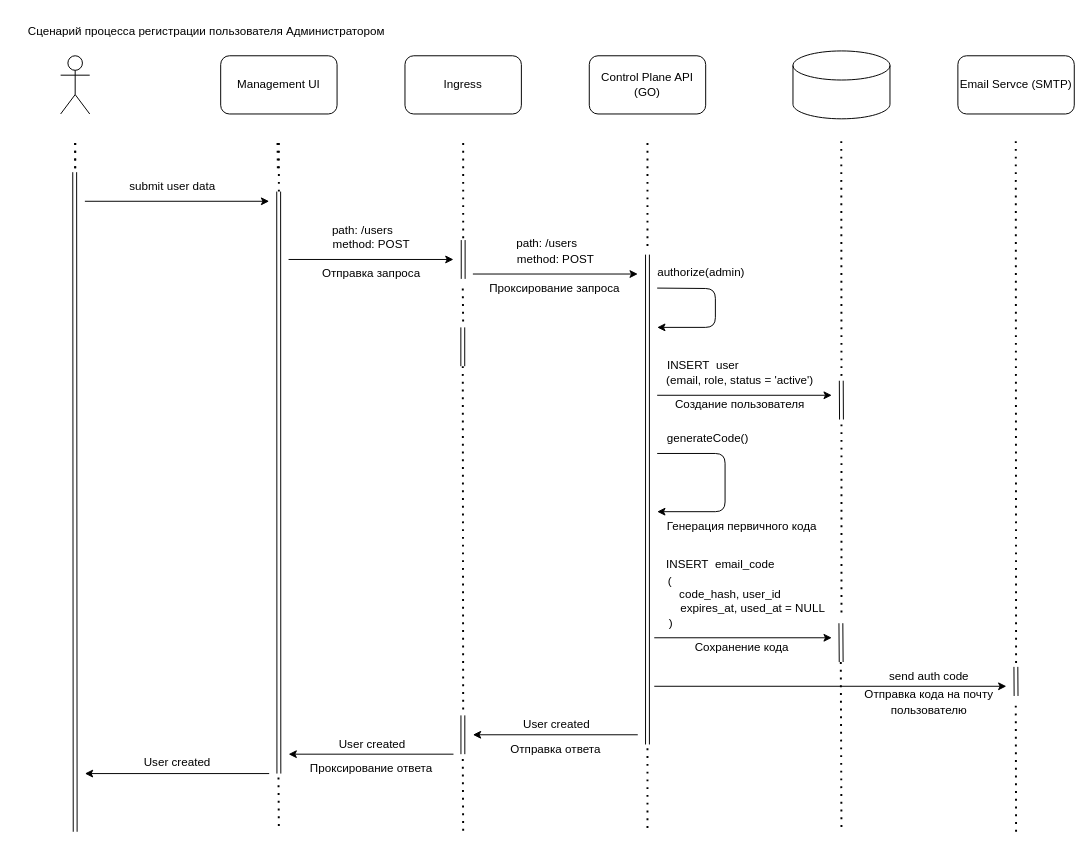
Image size: 1091x850. Some labels were removed from this diagram. Each missing label, with the centre of its shape:
Administrator: the point at 75,84
Database: the point at 841,84
